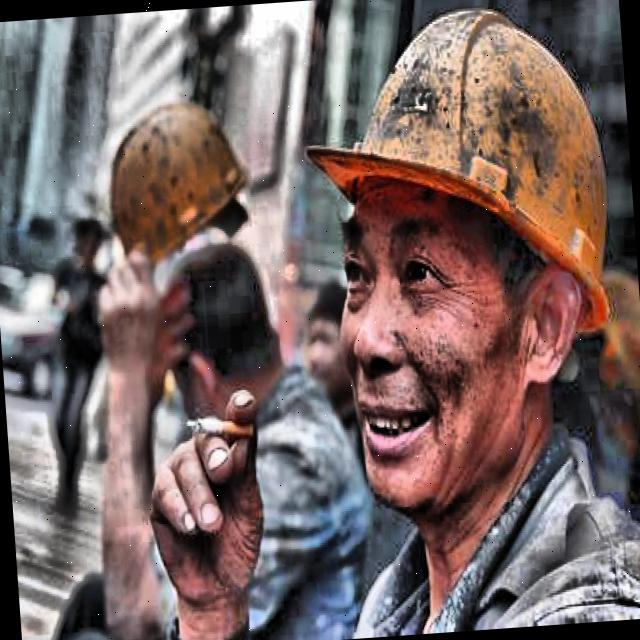helmet: (281, 0, 640, 559), (88, 62, 286, 394)
